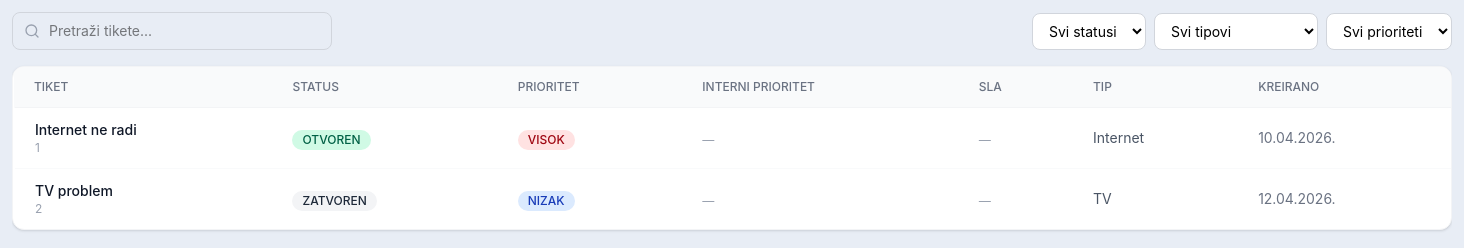
Test: Tickets page — PB-32, PB-33 › filters tickets by problem type
Select "Internet" in the 2nd dropdown showing "Svi tipovi" at (1236, 31), box [1154,12,1318,50]
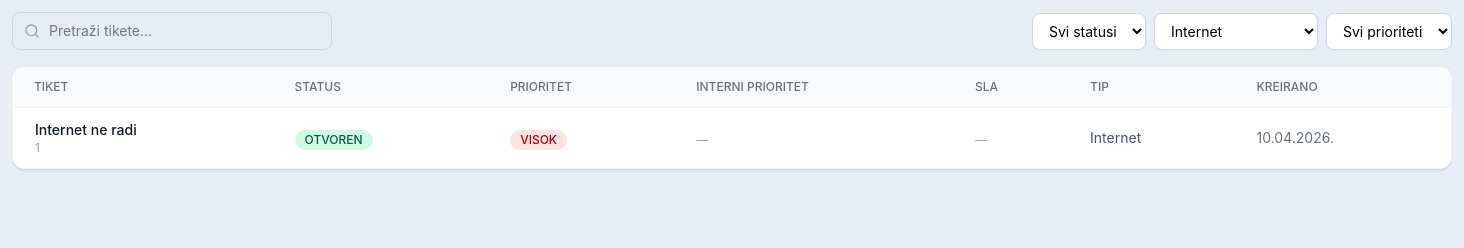
Check: the text "TV problem" is not shown
